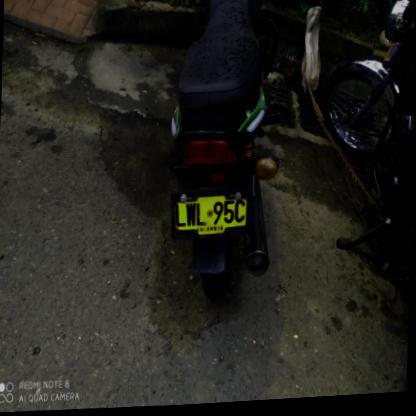placa: (165, 184, 252, 246)
